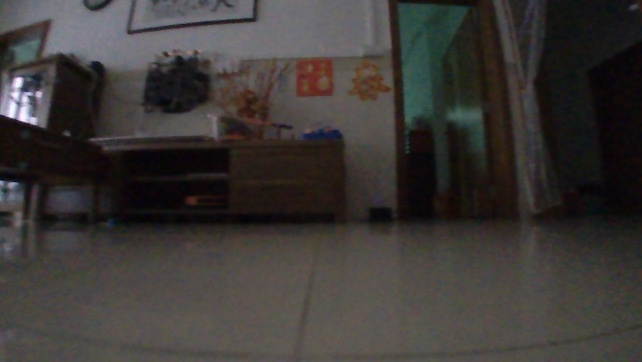TV_stand: (38, 132, 348, 226)
door_anno: (438, 0, 518, 220)
